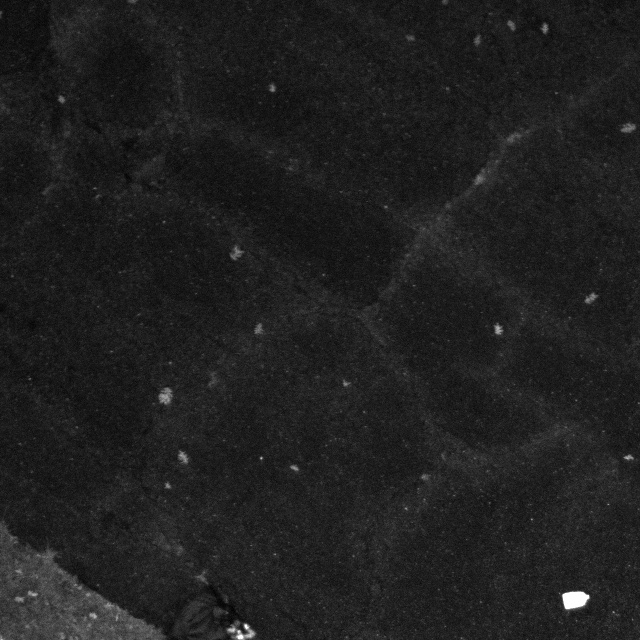can: (558, 587, 592, 614)
